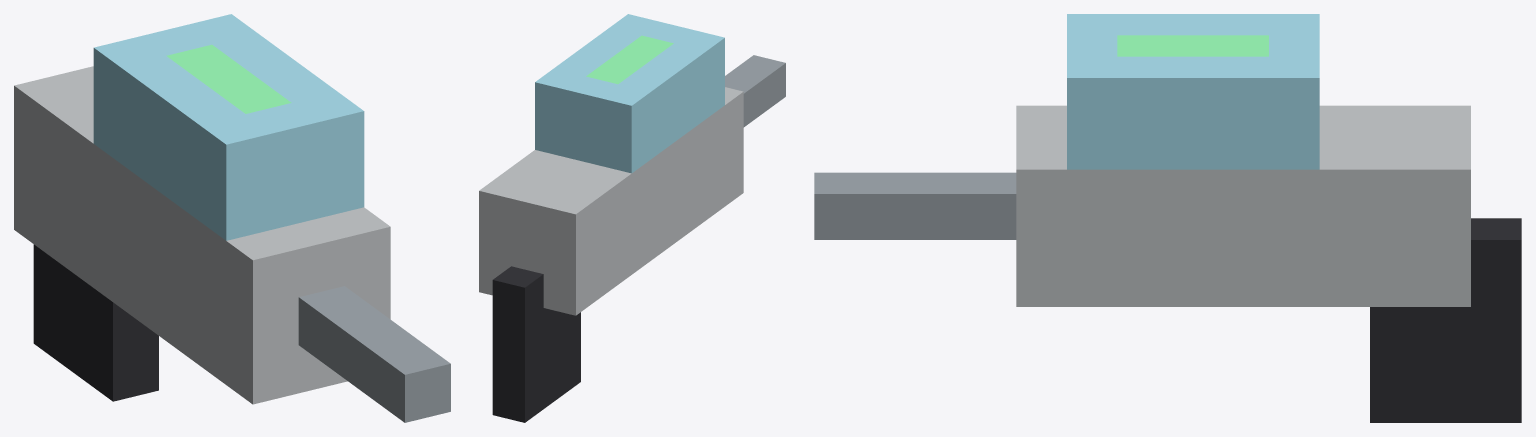
The model's file is vox_injector.glb.
3 views of the same model, side by side, from view 1: azimuth 30°, elevation 25°; view 2: azimuth 150°, elevation 25°; view 3: azimuth 270°, elevation 25° (orthographic). The views are drawn at different scales.
Parts seen in each view (by area): view 1: vox_injector; view 2: vox_injector; view 3: vox_injector.
Boxes of the visible parts, box(x1,y1,x2,y2) form: vox_injector: box(14, 14, 450, 422); vox_injector: box(479, 14, 785, 422); vox_injector: box(814, 14, 1521, 422).
Size of the model in its own units: 0.06 by 0.16 by 0.28.
